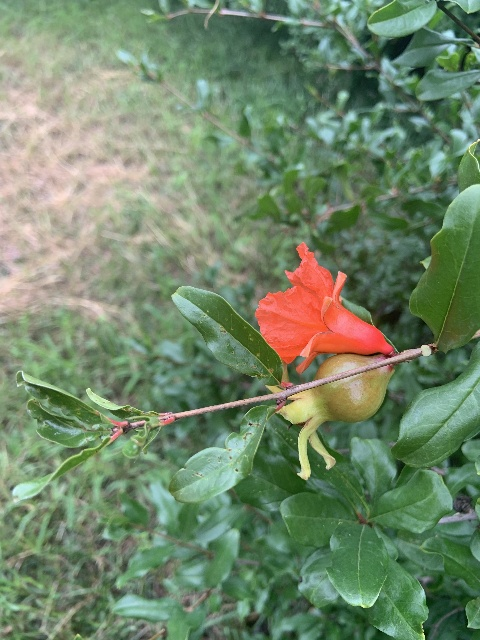early-fruit: (269, 353, 390, 477)
flower: (255, 242, 391, 373)
